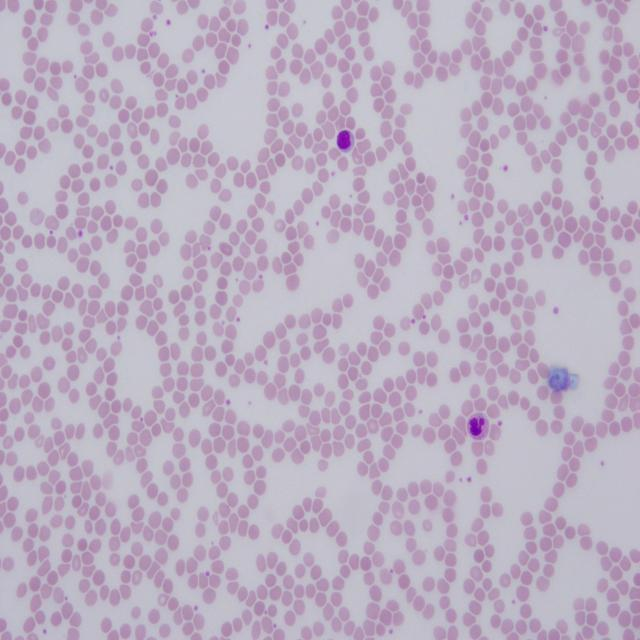cell: (468, 413, 489, 440)
